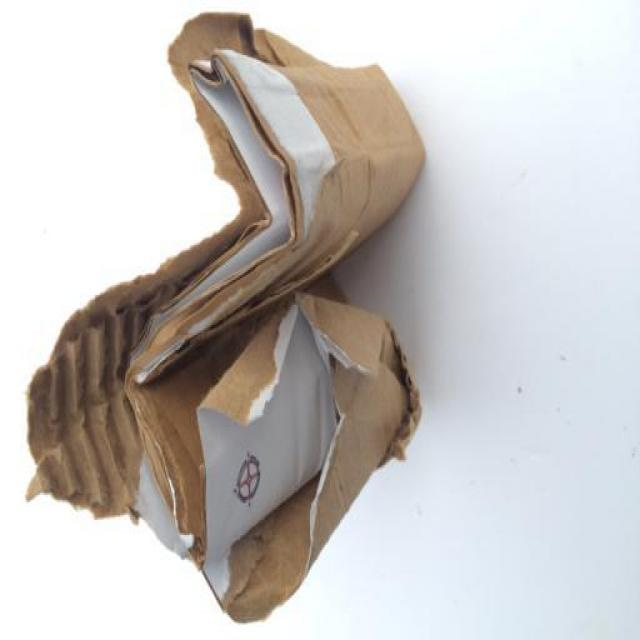cardboard: (57, 32, 387, 580)
